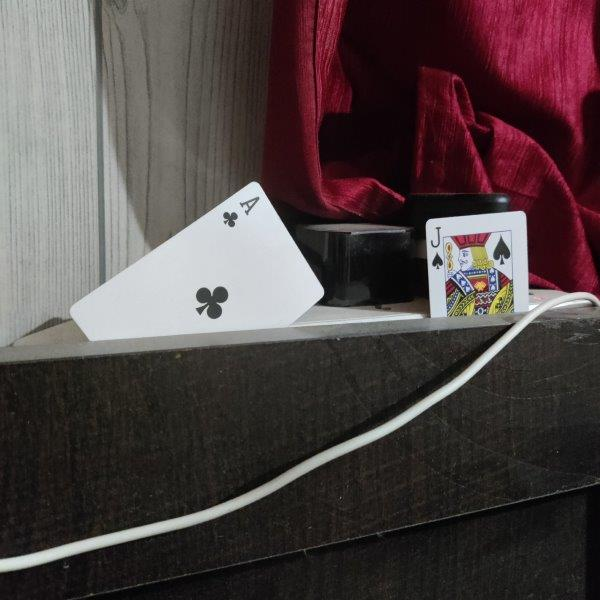Ace of Clubs: (69, 180, 327, 343)
Jack of Spades: (425, 211, 530, 320)
